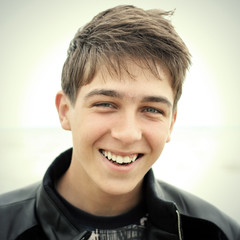teen: (52, 11, 188, 198)
